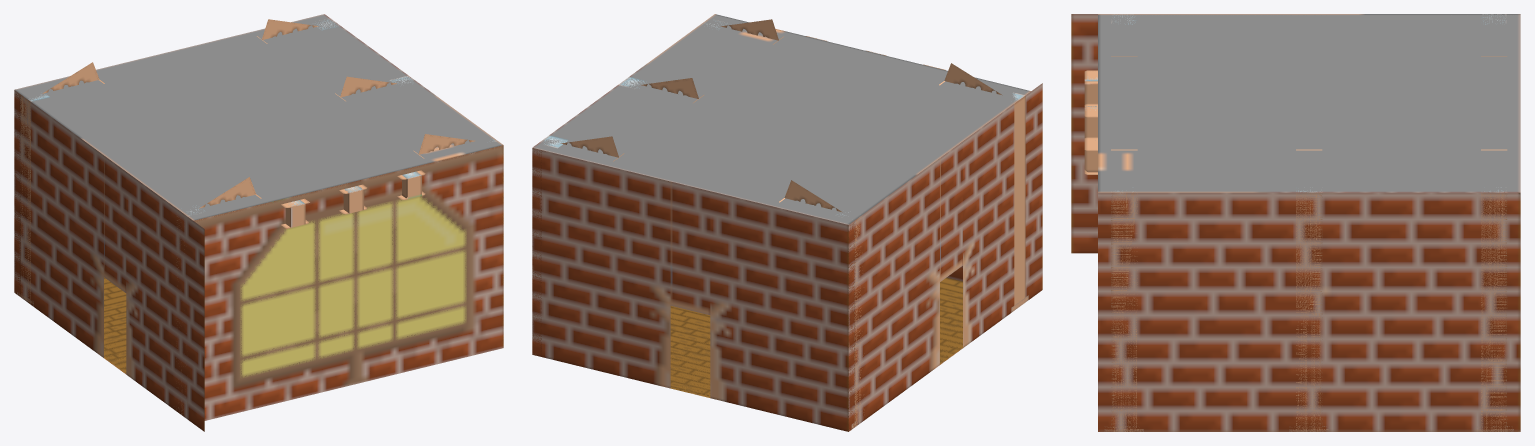
The model's file is Room1.fbx.
3 renders of one model, left to right at view 1: azimuth 30°, elevation 25°; view 2: azimuth 150°, elevation 25°; view 3: azimuth 270°, elevation 25°, orthographic. The views are drawn at different scales.
Parts seen in each view (by area): view 1: cube_16, cube_2, cube_19, cube_18, cube_39, cube_17, cube, cube_15, cube_21, cube_22, cube_27, cube_24 (+4 smaller); view 2: cube_2, cube_28, cube_30, cube_19, cube_18, cube, cube_29, cube_17, cube_32, cube_15, cube_22, cube_24 (+3 smaller); view 3: cube_1, cube_2, cube_18, cube_34, cube_38, cube_35.
Boxes of the visible parts, box(x1,y1,x2,y2) form: cube_16: box(193, 145, 503, 420); cube_2: box(14, 14, 503, 220); cube_19: box(14, 90, 103, 357); cube_18: box(126, 172, 204, 431); cube_39: box(195, 146, 503, 420); cube_17: box(104, 155, 126, 292); cube: box(104, 277, 126, 374); cube_15: box(20, 94, 49, 302); cube_21: box(42, 62, 99, 93); cube_22: box(261, 19, 318, 39); cube_27: box(340, 76, 396, 97); cube_24: box(418, 134, 474, 154); cube_2: box(532, 14, 1030, 224); cube_28: box(710, 191, 848, 431); cube_30: box(532, 148, 670, 388); cube_19: box(848, 158, 939, 431); cube_18: box(963, 83, 1042, 347); cube: box(670, 277, 962, 397); cube_29: box(670, 181, 710, 315); cube_17: box(940, 141, 962, 281); cube_32: box(1012, 92, 1025, 309); cube_15: box(837, 212, 863, 425); cube_22: box(560, 136, 618, 157); cube_24: box(720, 19, 778, 40); cube_1: box(1098, 192, 1520, 431); cube_2: box(1098, 14, 1520, 192); cube_18: box(1071, 14, 1097, 253); cube_34: box(1481, 187, 1507, 431); cube_38: box(1296, 190, 1322, 431); cube_35: box(1111, 191, 1137, 431).
Size of the model in its own units: 100 by 68.48 by 106.
Materials: 1 (1 with a texture image).
